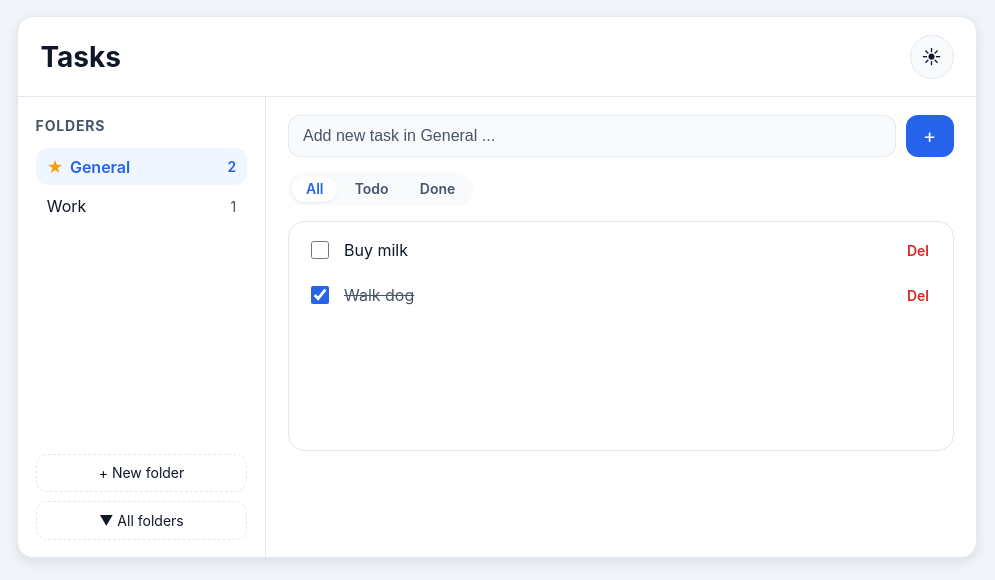
Test case: App › shows folder labels in the All-folders view and hides delete-folder
This screenshot has width=995, height=580.
Expected: the text "Buy milk" is shown, [344,240,408,260]
Click the button "▼ All folders" at [142, 520], box [36,501,247,540]
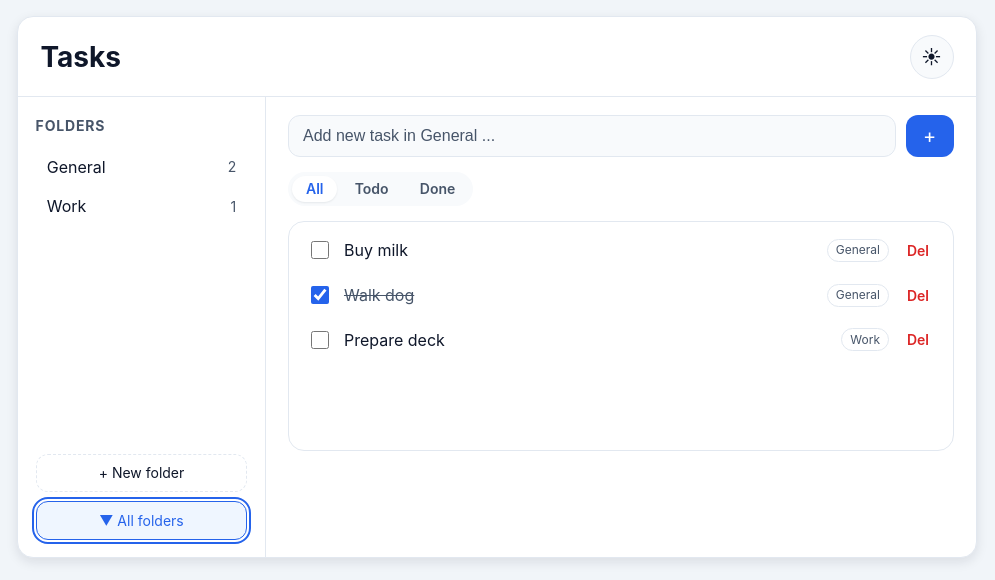
Expected: the text "Work" in the row of "Prepare deck" is shown, [850,332,880,347]
